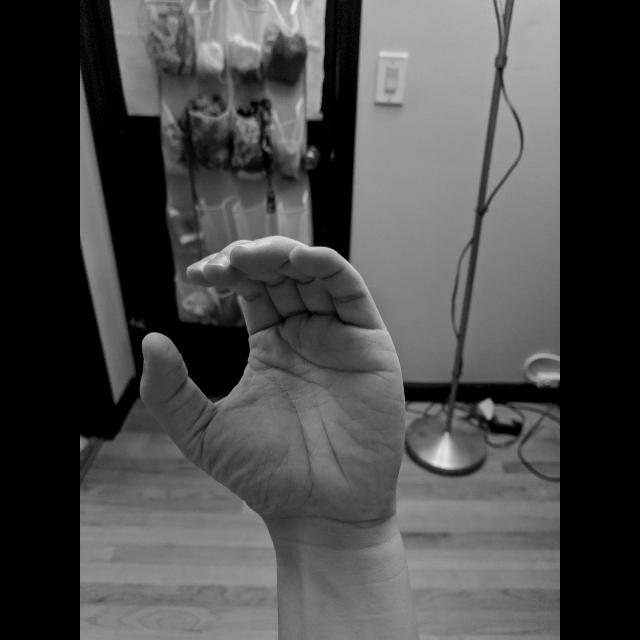C: (134, 231, 412, 537)
